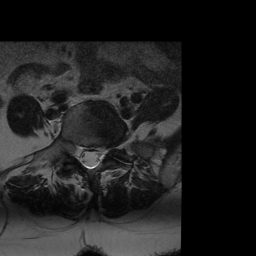CCS_normal: (87, 141, 95, 172)
LFS_severe_stenosis: (105, 139, 114, 163)
LLS_normal: (96, 141, 105, 167)
RFS_normal: (71, 136, 80, 166)
RLS_normal: (80, 142, 88, 170)
